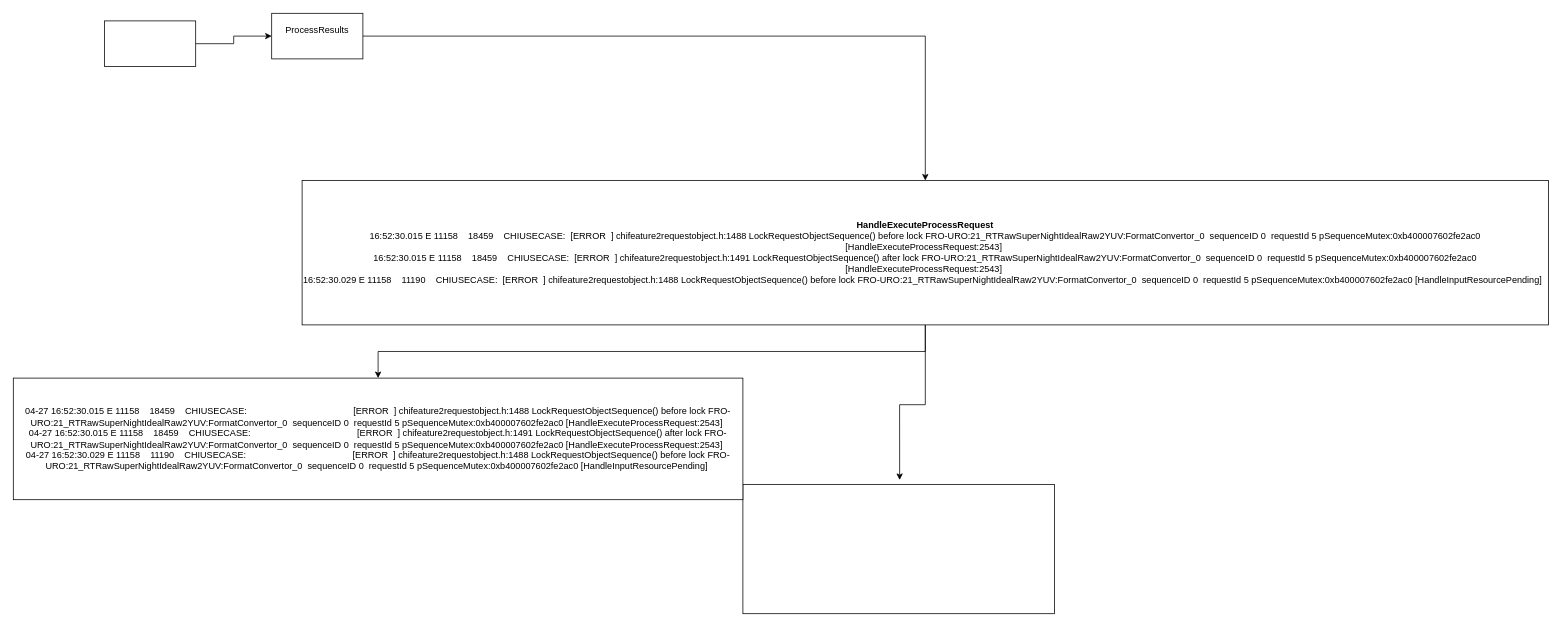
The diagram is 1562 pixels wide and 627 high, and some of its shapes have lost their labels. Each missing label, with the box of its shape:
HandleExecuteProcessRequest: (742, 484, 1054, 614)
InjectResult: (104, 20, 196, 66)
